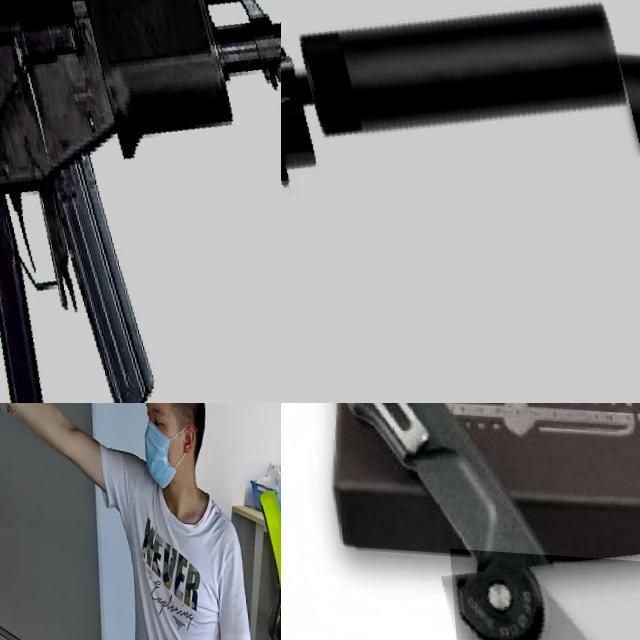-: (445, 544, 640, 640)
gun-knife-thesis - v11 Yolov5 augmented: (281, 0, 640, 403), (0, 0, 281, 403), (0, 403, 34, 453)
